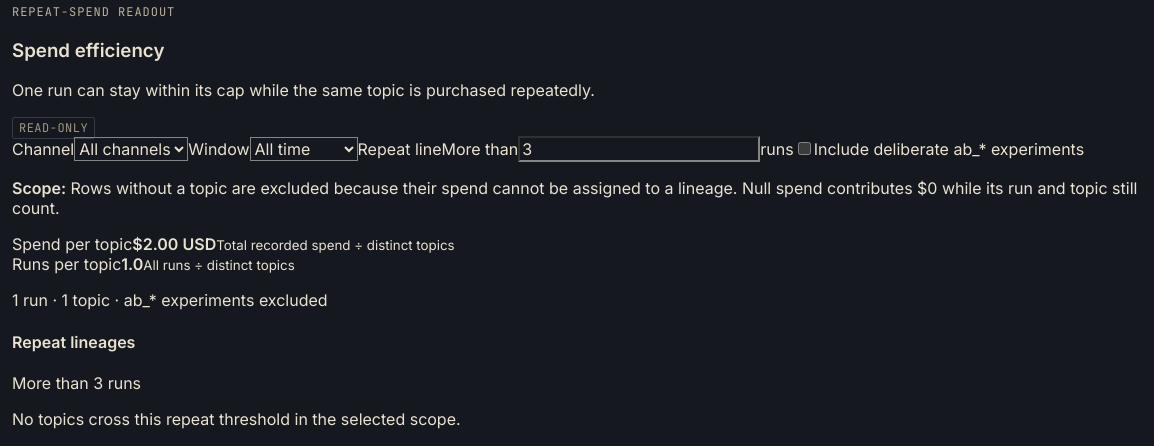
it: SpendEfficiencyReadout › keeps ab_* jobs out of the headline until the operator includes them
Expected: the text "1 run · 1 topic · ab_* experiments excluded" is shown, [12, 290, 328, 310]
Expected: the text "$2.00 USD" is shown, [132, 234, 216, 254]
Step 1. Click the checkbox labelled "Include deliberate ab_* experiments" → {"x": 804, "y": 149}, box [798, 142, 811, 155]
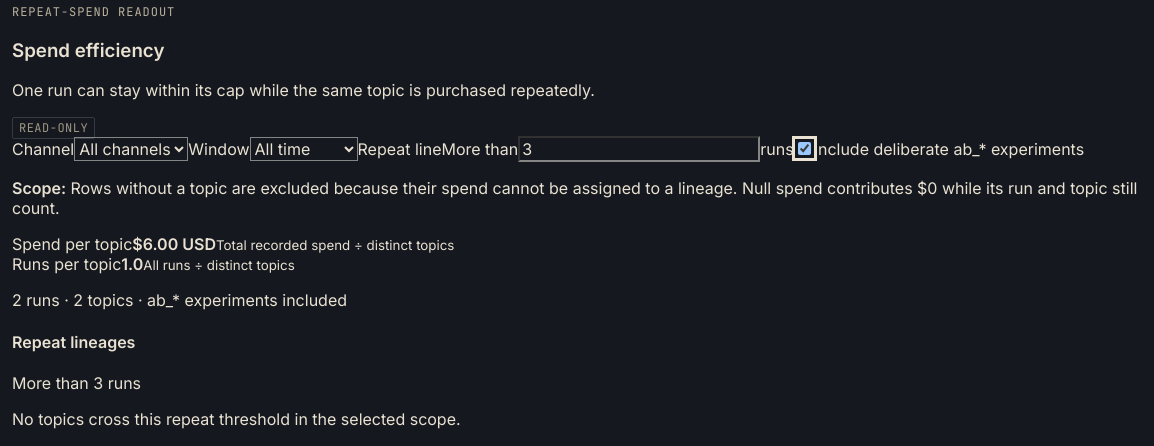
Expected: the text "2 runs · 2 topics · ab_* experiments included" is shown, [12, 290, 347, 310]
Expected: the text "$6.00 USD" is shown, [132, 234, 216, 254]
